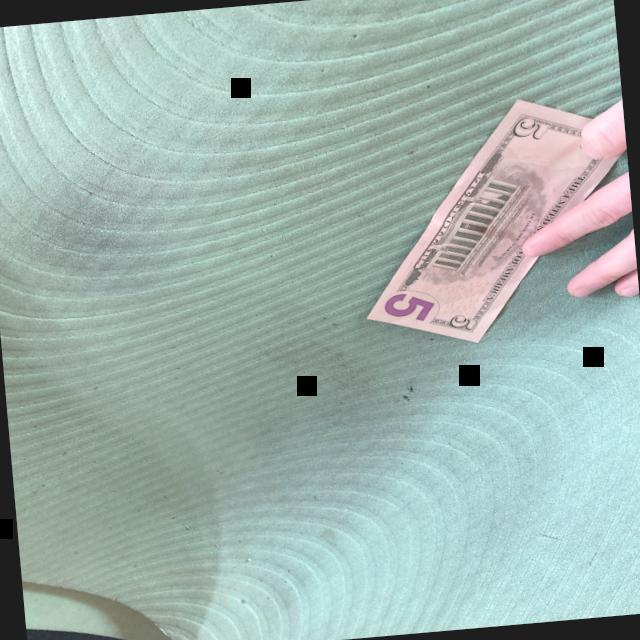five: (364, 99, 626, 343)
